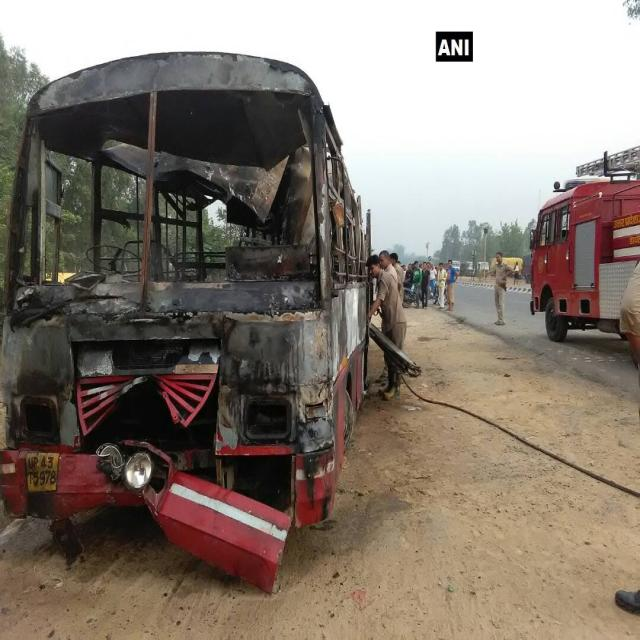emergency: (0, 52, 370, 591), (530, 147, 640, 342)
